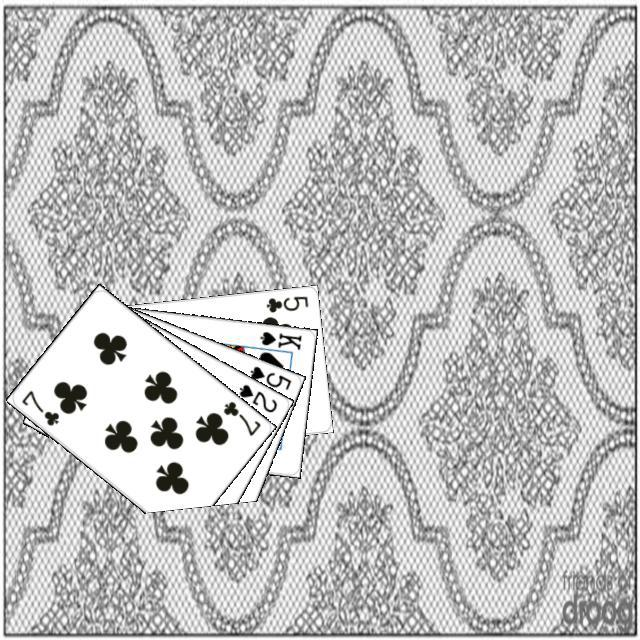2s: (234, 379, 279, 414)
5c: (261, 291, 310, 314)
5s: (245, 361, 293, 392)
7c: (17, 385, 61, 428), (218, 396, 263, 438)
Ks: (255, 326, 303, 351)
